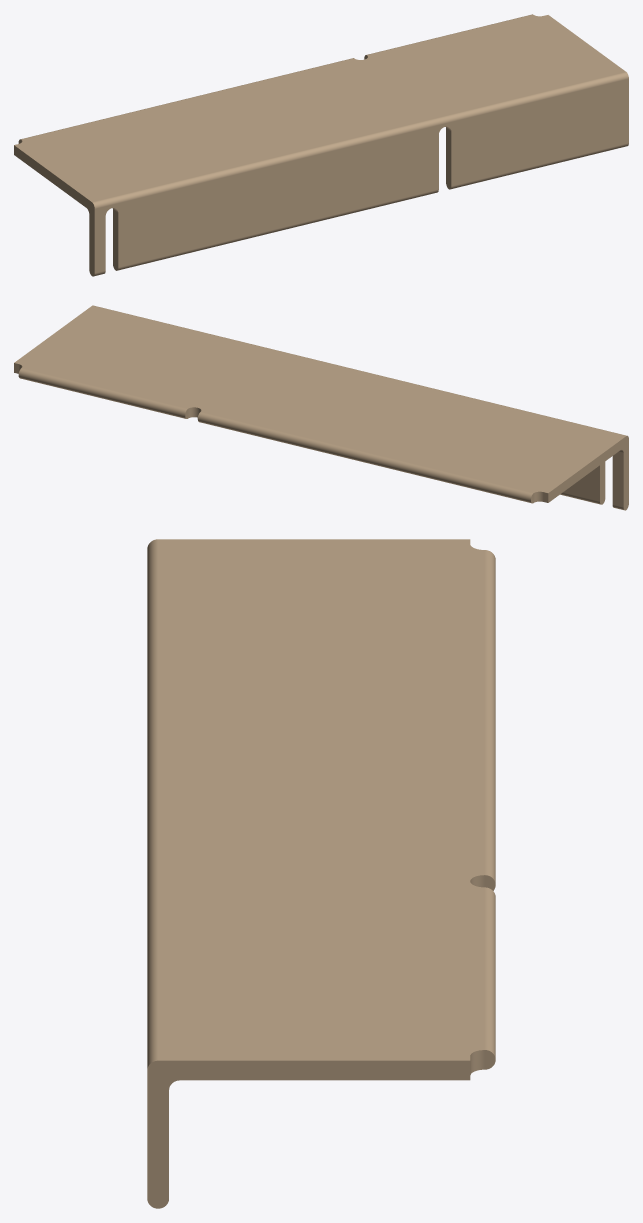
The model's file is TheMinersBench-justWood.glb.
3 renders of one model, top to bottom at view 1: azimuth 30°, elevation 25°; view 2: azimuth 150°, elevation 25°; view 3: azimuth 270°, elevation 25°, orthographic. The views are drawn at different scales.
Size of the model in its own units: 1.7 by 0.225 by 0.48.
